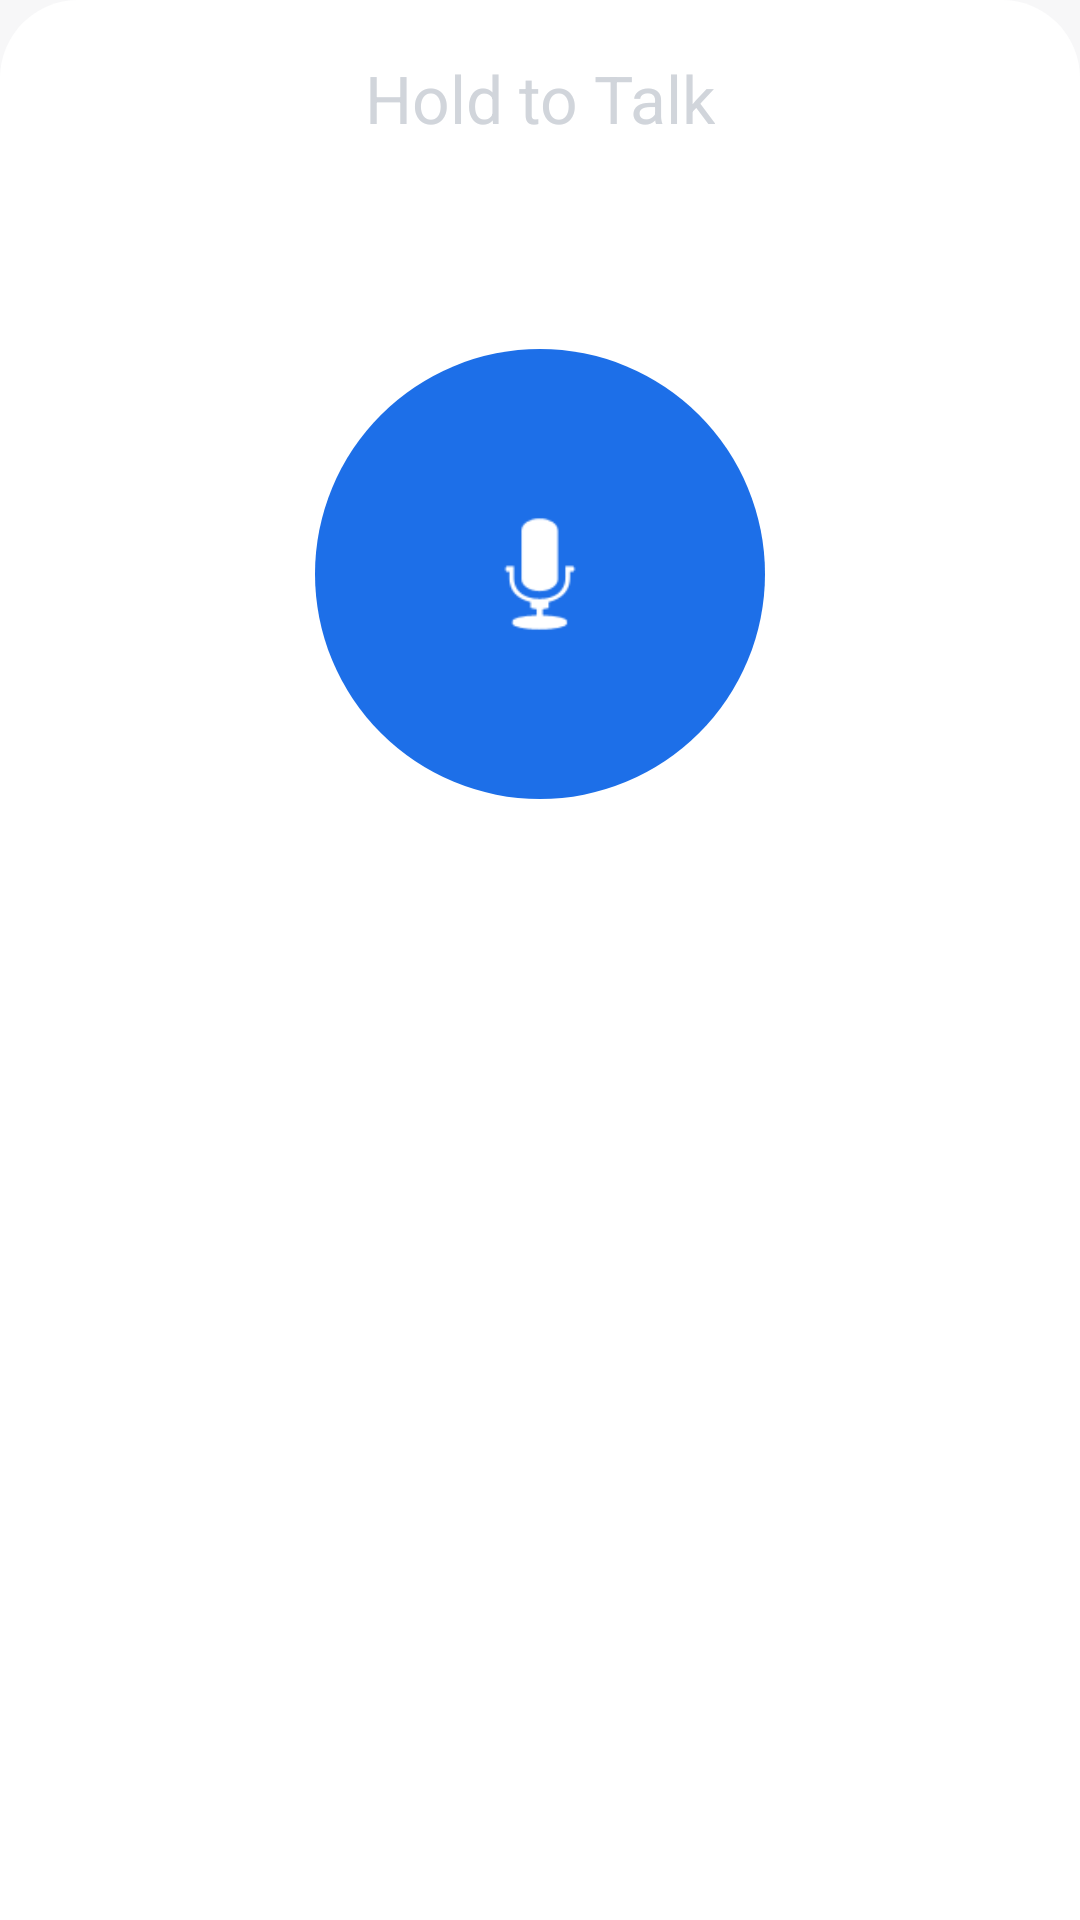

Where to tap for icons on this 1080w x 1920h app screen, as (x=x, y=y):
speak now: (x=540, y=574)
